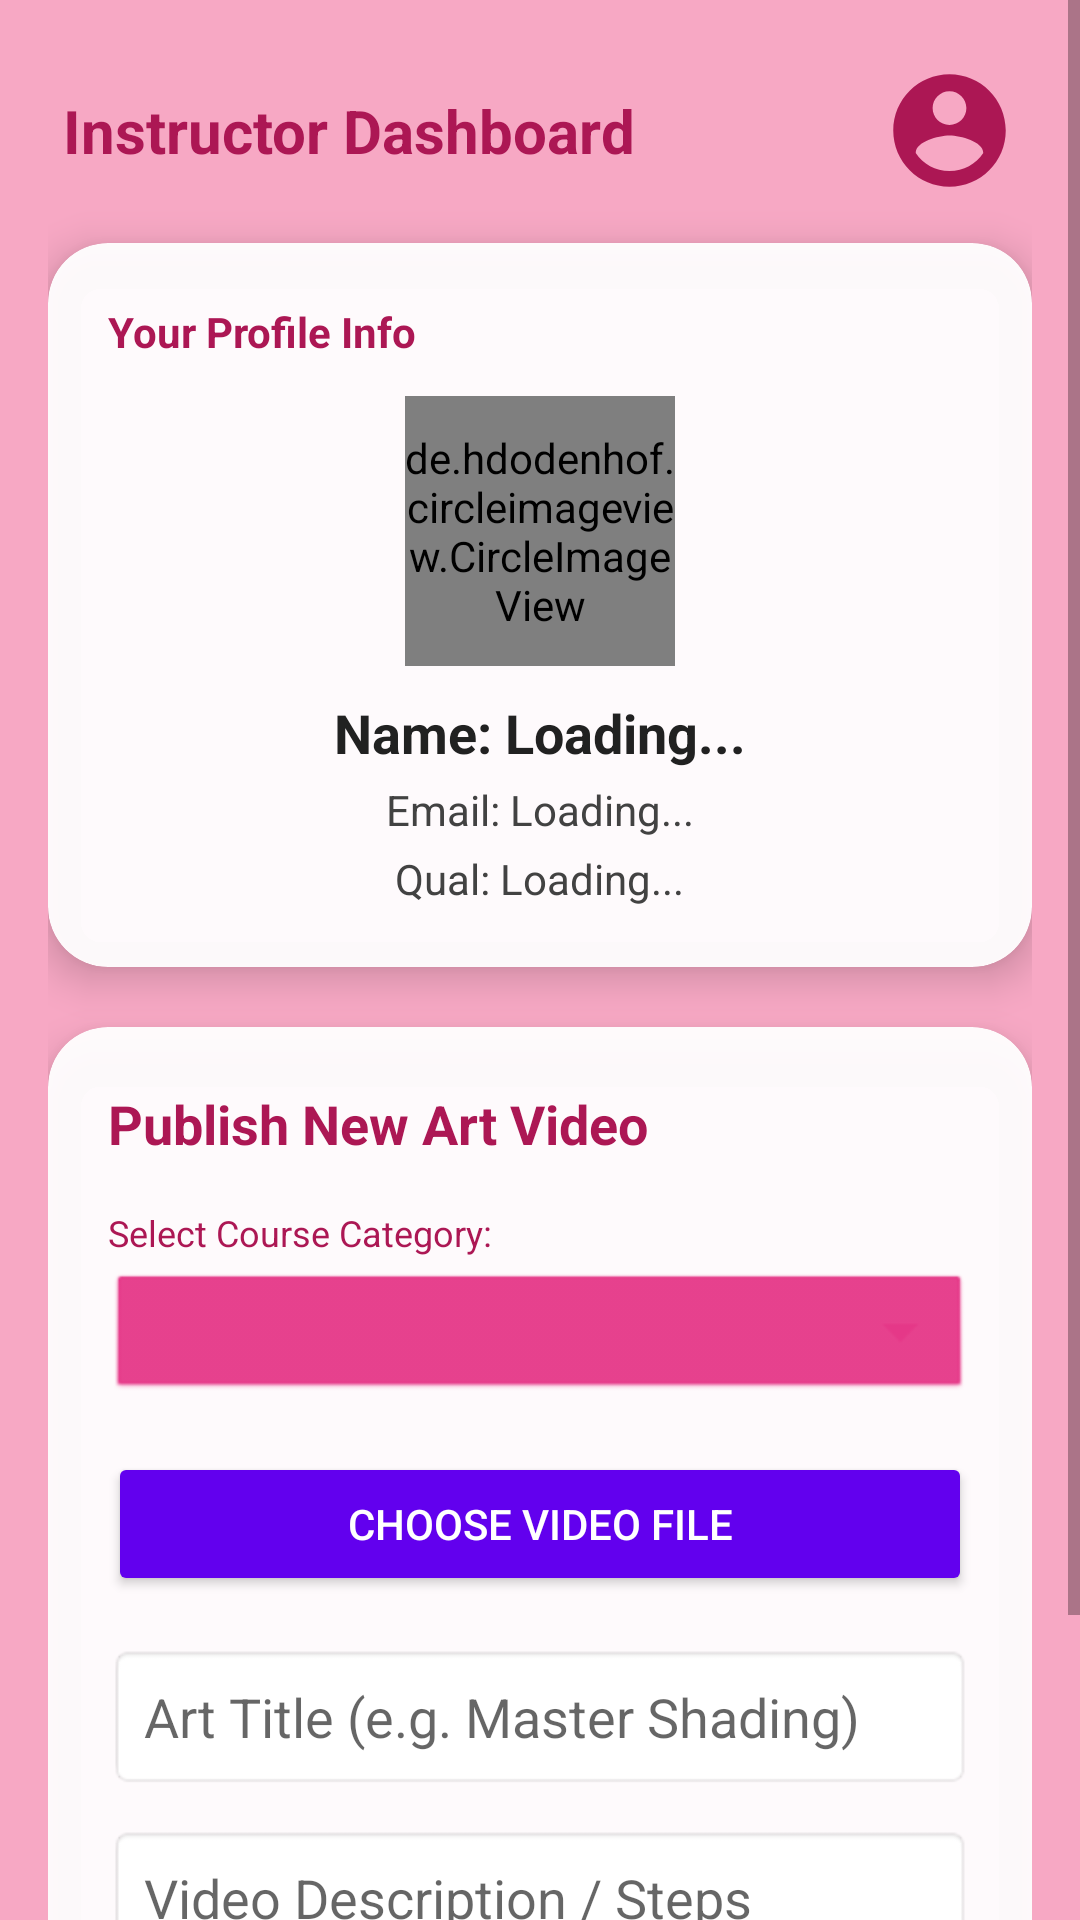

Icon bounding boxes for this 1080×1920 phone screenshot, format (x1, y1, x2, y2):
teacher profile: (893, 74, 1006, 187)
